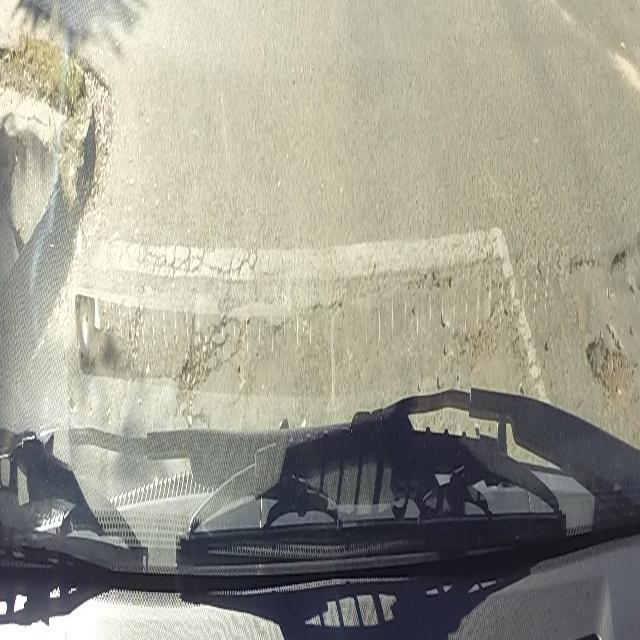pothole: (170, 291, 231, 429), (591, 326, 624, 406)
